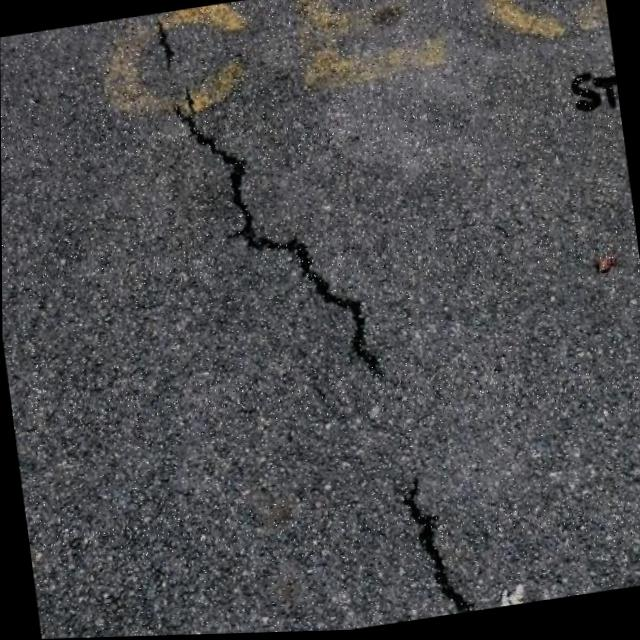Crack: (143, 0, 483, 637)
